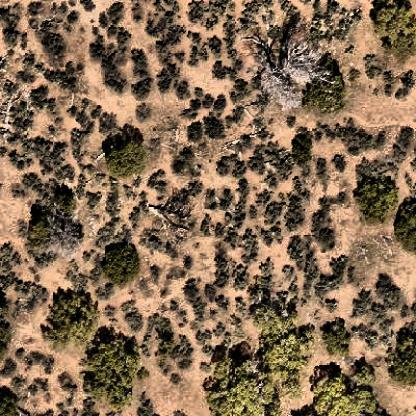tree-top: (255, 30, 319, 101), (203, 352, 273, 416), (81, 335, 139, 400), (43, 286, 101, 348), (373, 0, 416, 60), (308, 368, 364, 413), (353, 172, 399, 221), (257, 332, 309, 375), (300, 70, 352, 113), (100, 135, 150, 179), (99, 239, 143, 285), (206, 150, 248, 187), (250, 298, 294, 333), (389, 331, 416, 386), (320, 317, 357, 357), (24, 210, 57, 249), (292, 127, 314, 174), (393, 208, 416, 248), (350, 360, 375, 387), (54, 187, 78, 213), (0, 392, 18, 416)
